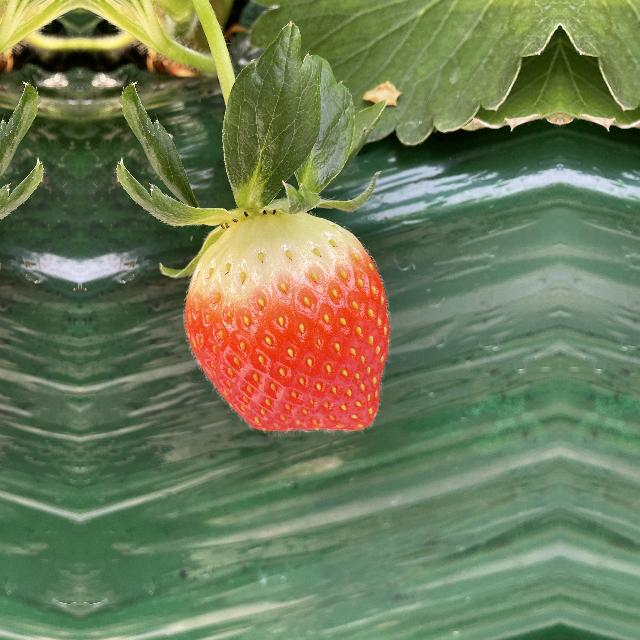Health_100: (158, 198, 402, 452)
